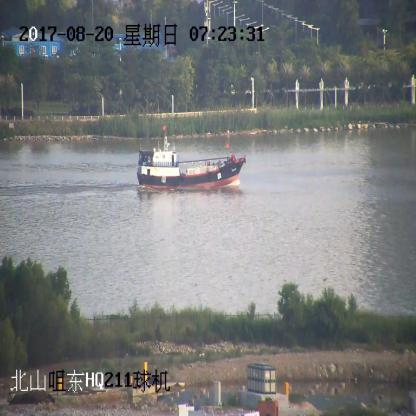Fishing Boat: (137, 136, 247, 189)
